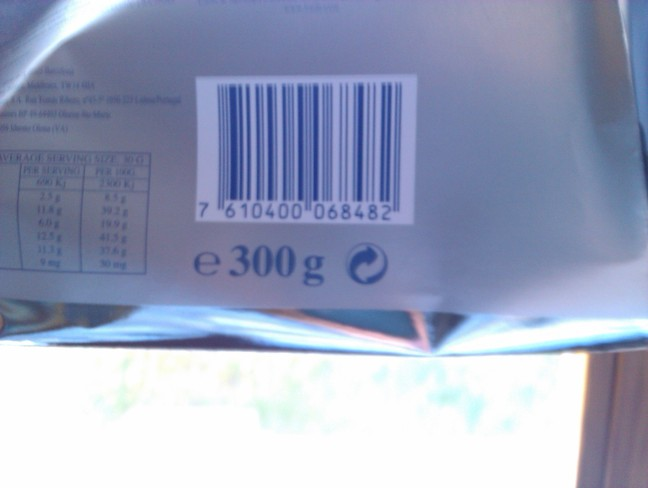detection: (196, 75, 411, 225)
